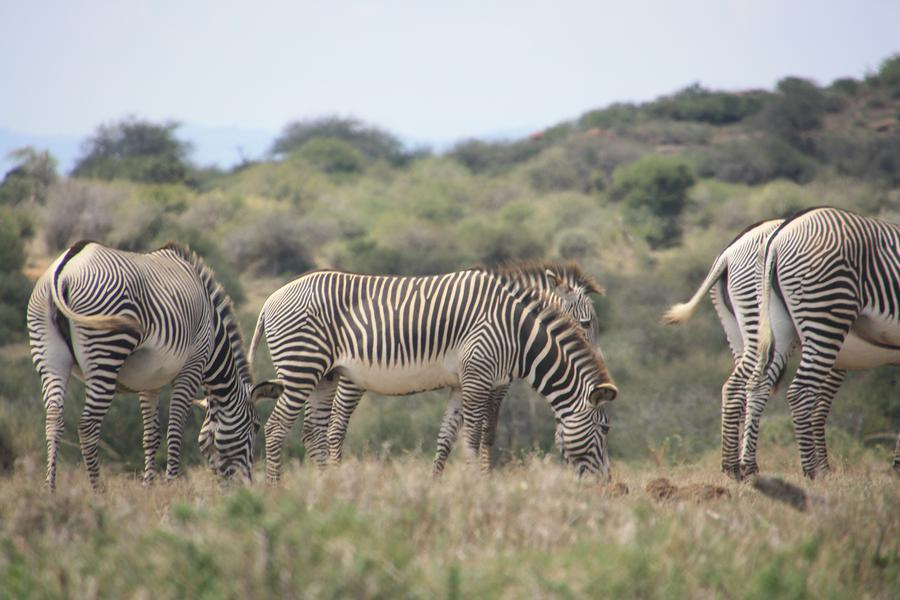zebra_grevys: (263, 260, 506, 388)
